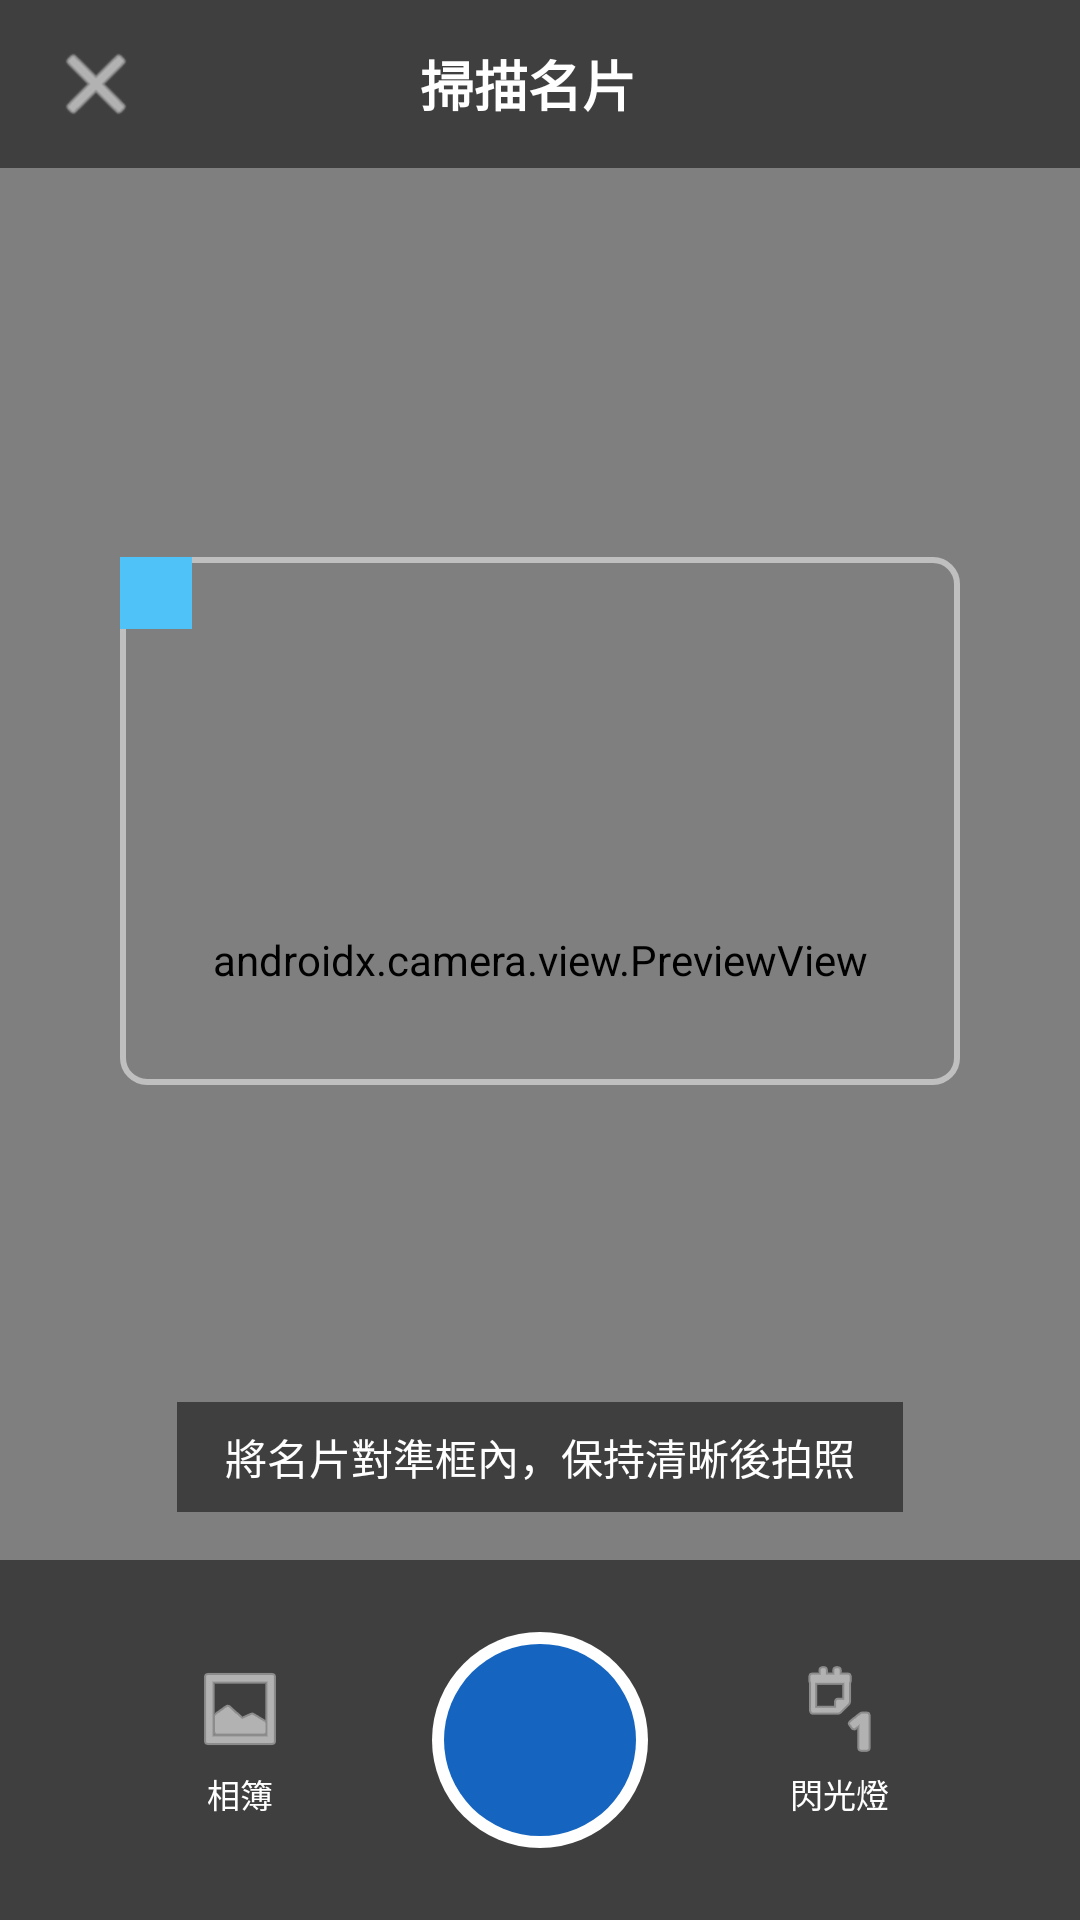

Icons on this 1080px x 1920px Android screen, each with the point to tap as (x=x, y=y):
關閉: (x=96, y=84)
